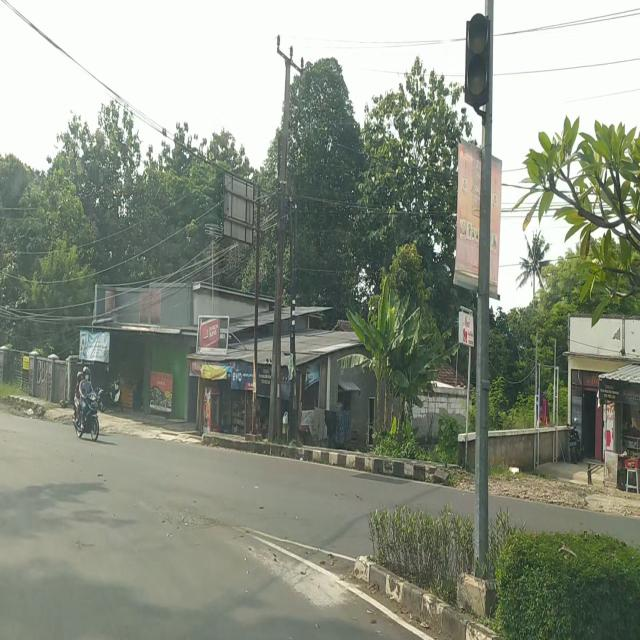Drain Hole: (152, 499, 225, 532), (73, 534, 94, 552)
